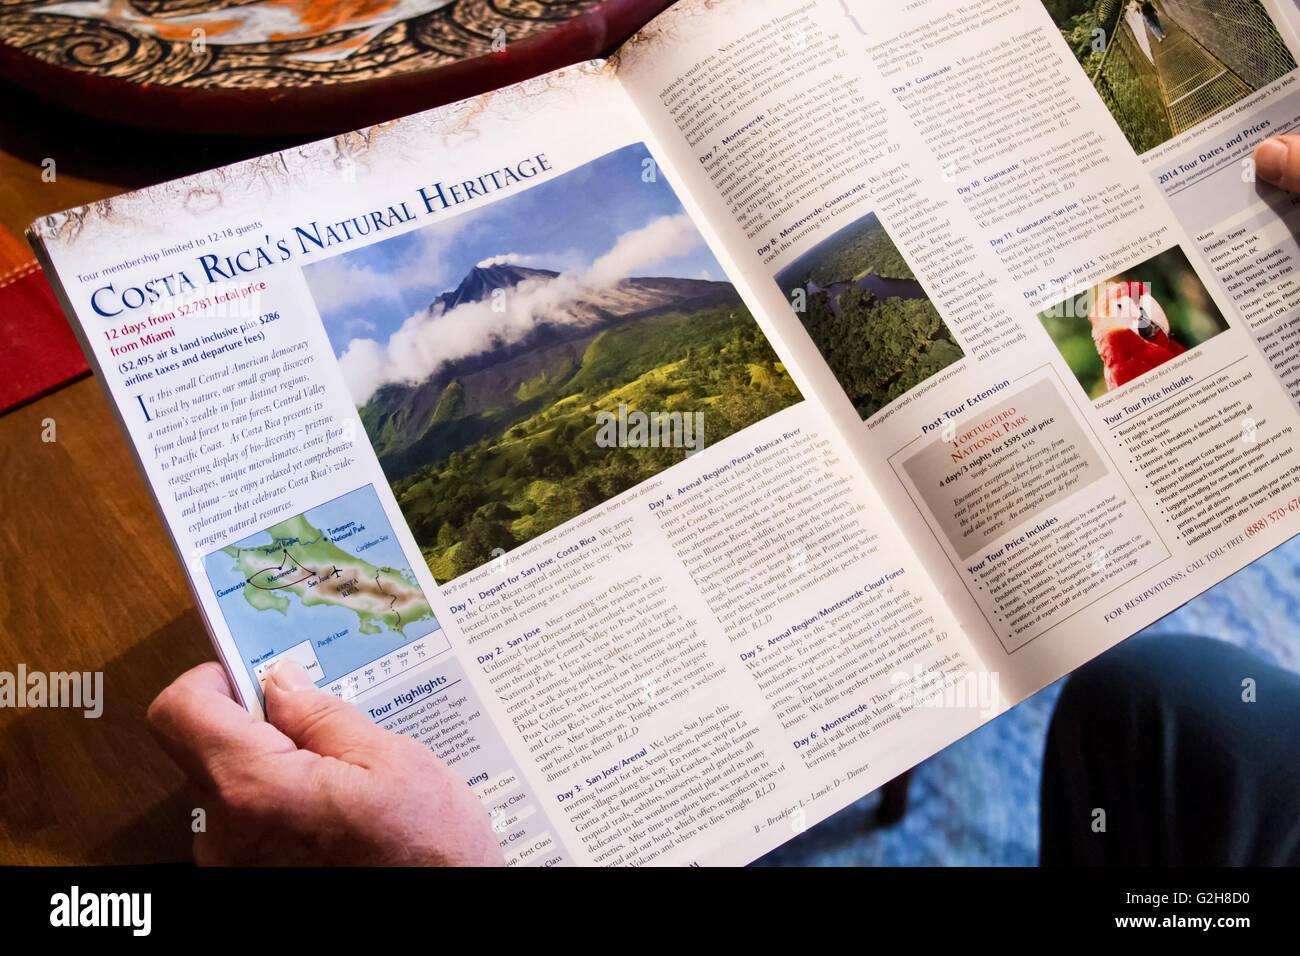paper: (0, 0, 1299, 865)
